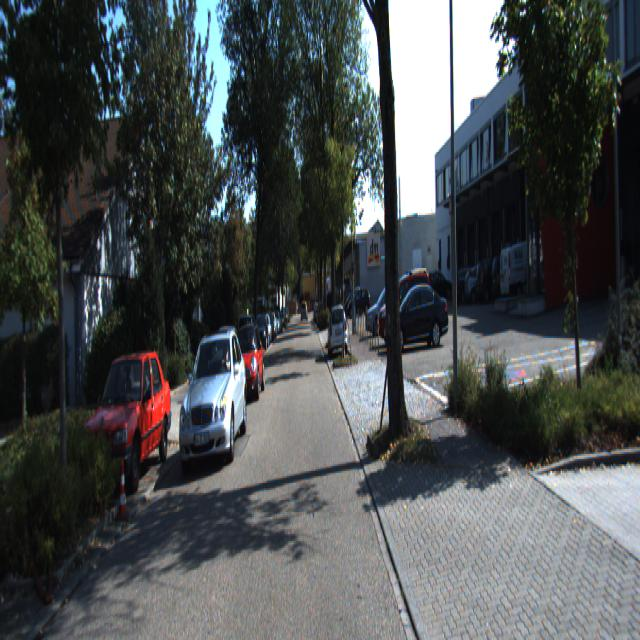Car: (76, 336, 172, 495), (175, 326, 249, 471), (383, 280, 450, 348), (379, 265, 435, 344), (498, 238, 559, 308), (229, 320, 265, 404), (328, 302, 348, 360)
